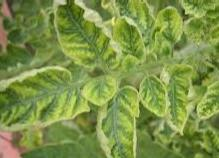Tomato leaf yellow virus: (0, 64, 74, 144), (45, 0, 120, 77), (96, 86, 147, 158), (156, 66, 193, 141), (109, 14, 144, 59), (152, 6, 184, 55), (139, 73, 168, 115), (199, 73, 219, 119), (186, 0, 219, 25), (201, 125, 219, 155)
